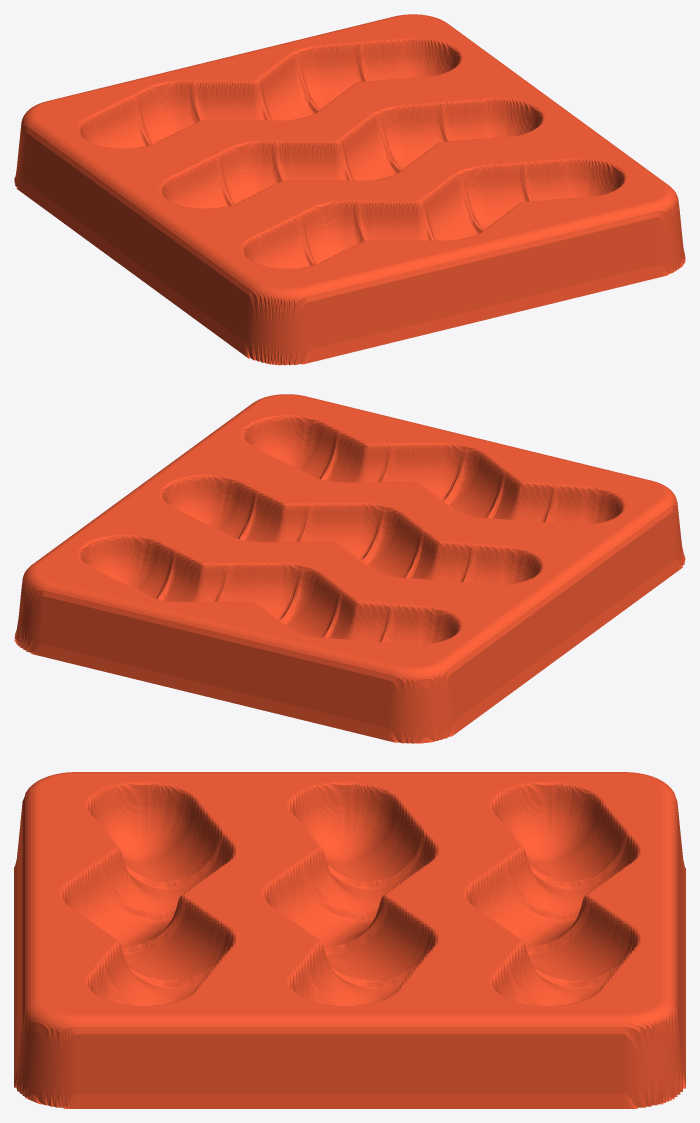
File: mold.glb
3 renders of one model, top to bottom at view 1: azimuth 30°, elevation 25°; view 2: azimuth 150°, elevation 25°; view 3: azimuth 270°, elevation 25°, orthographic. The views are drawn at different scales.
Parts seen in each view (by area): view 1: geometry_0; view 2: geometry_0; view 3: geometry_0.
Boxes of the visible parts, x1=… form: geometry_0: x1=14, y1=14, x2=685, y2=365; geometry_0: x1=14, y1=394, x2=685, y2=743; geometry_0: x1=14, y1=772, x2=685, y2=1108.
Bounding box in the file's own units: 0.0906 × 0.0135 × 0.0981.
